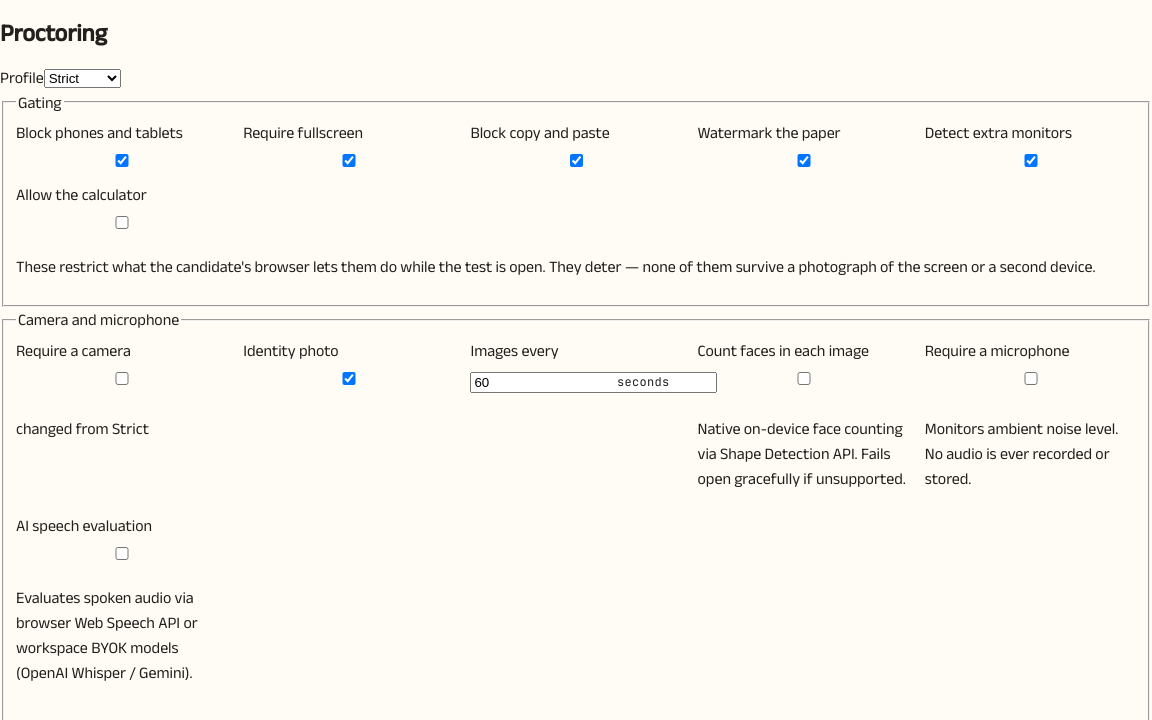
the proctoring panel's accessibility gate (D1, D20, Q3) › has no axe violations with the confirmation dialog open
Select "Standard" in the dropdown labelled "Profile" at (82, 78), box left=44, top=69, right=121, bottom=88
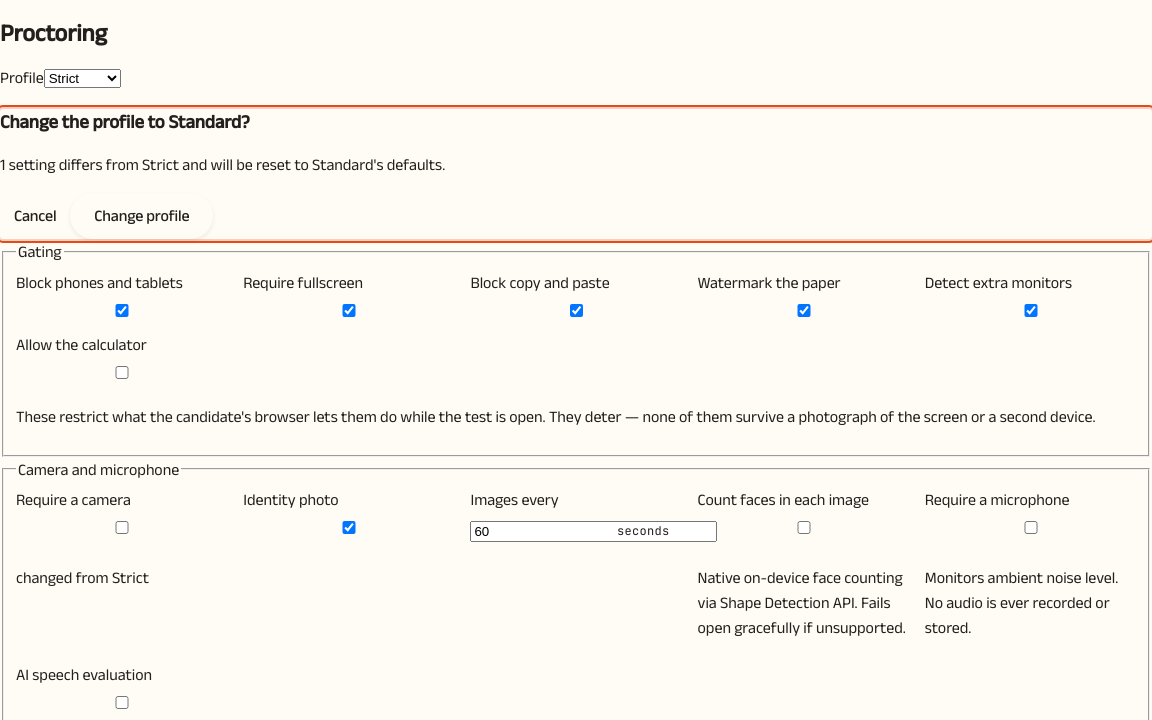
Check: the dialog is shown, box left=0, top=108, right=1151, bottom=239
